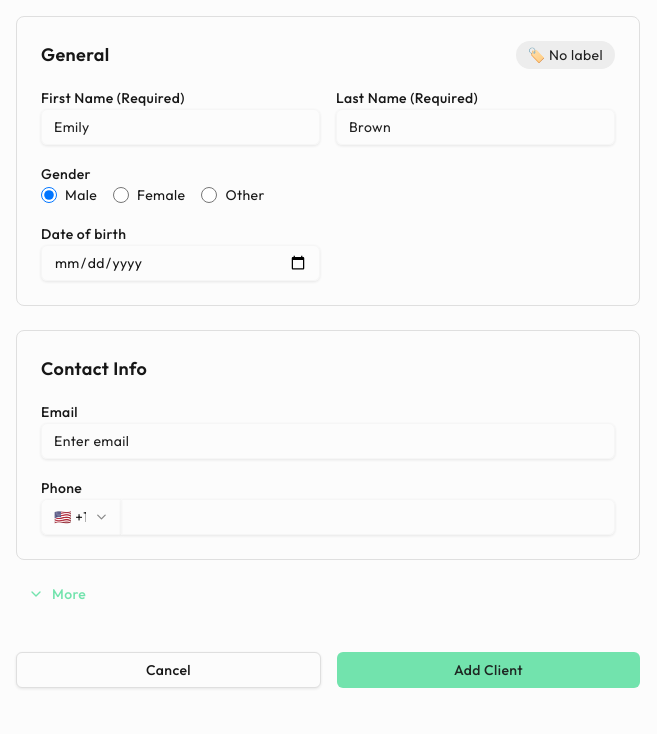
Test case: ClientForm › Form Validation › requires at least email or phone
// Fill only name fields
Type "John" into the field labelled "First Name (Required)" at (180, 127), box x1=41 y1=109 x2=320 y2=145
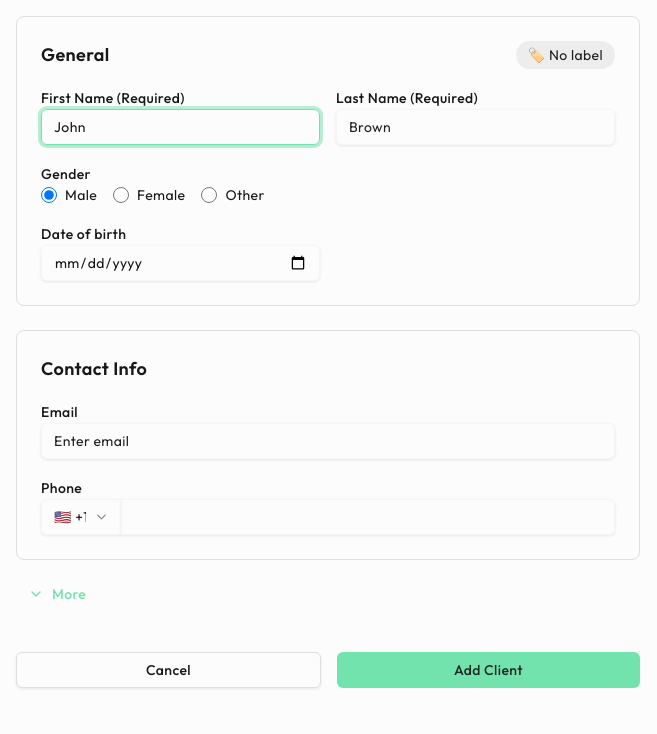
Type "Doe" into the field labelled "Last Name (Required)" at (476, 127), box x1=336 y1=109 x2=615 y2=145
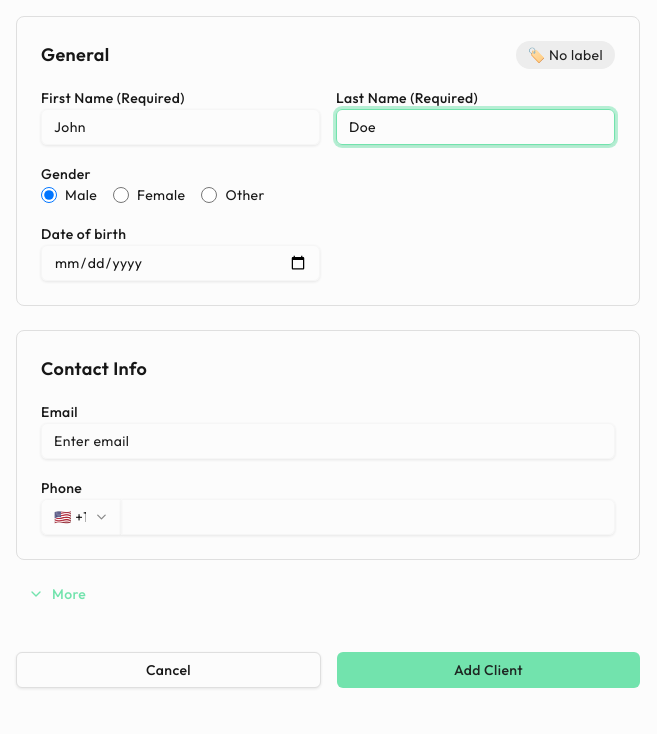
Click the button "Add Client" at (488, 670), box x1=337 y1=652 x2=640 y2=688
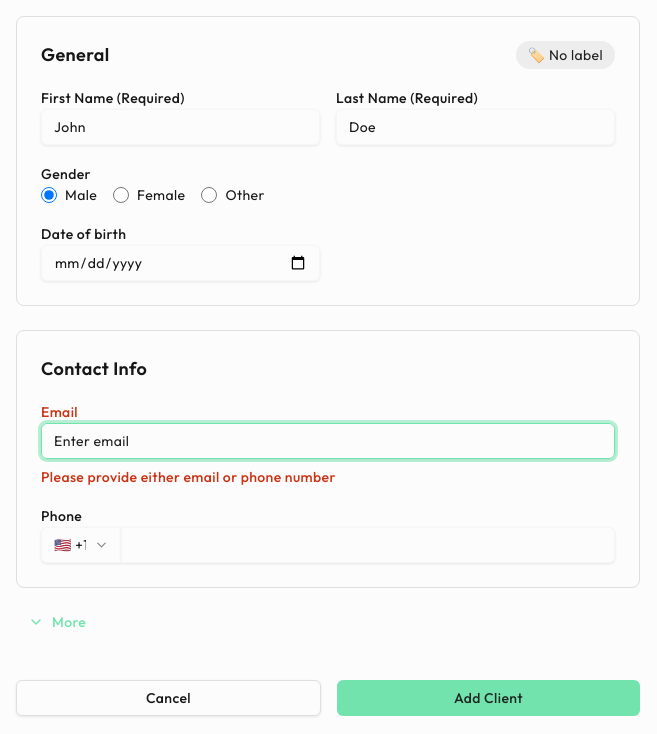
Check: the text "Please provide either email or phone number" is shown, box x1=41 y1=468 x2=336 y2=486
